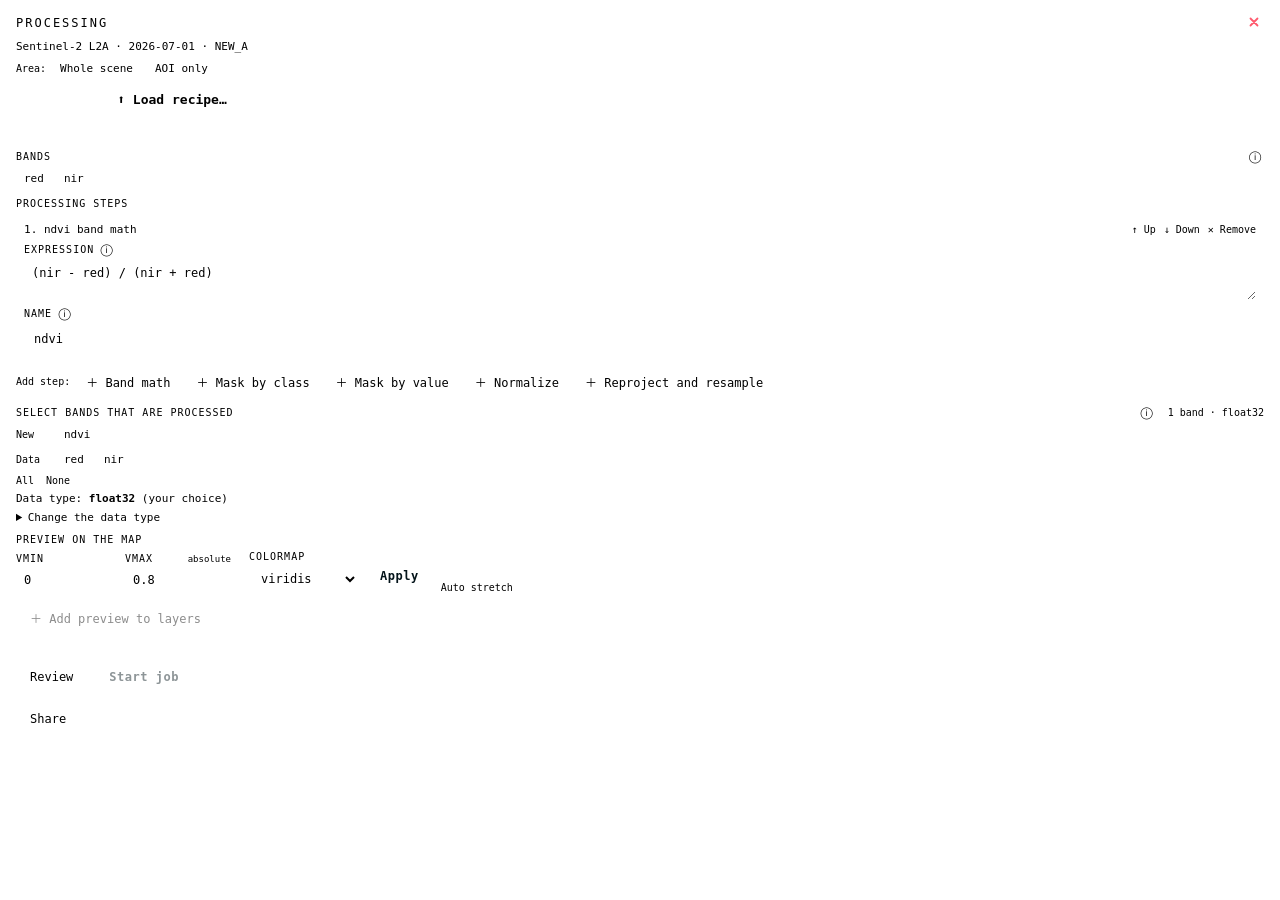
Test: Share › keeps the link and its key when the delete fails
Click the button "Share" at coordinates (48, 719), box [16,702,80,736]
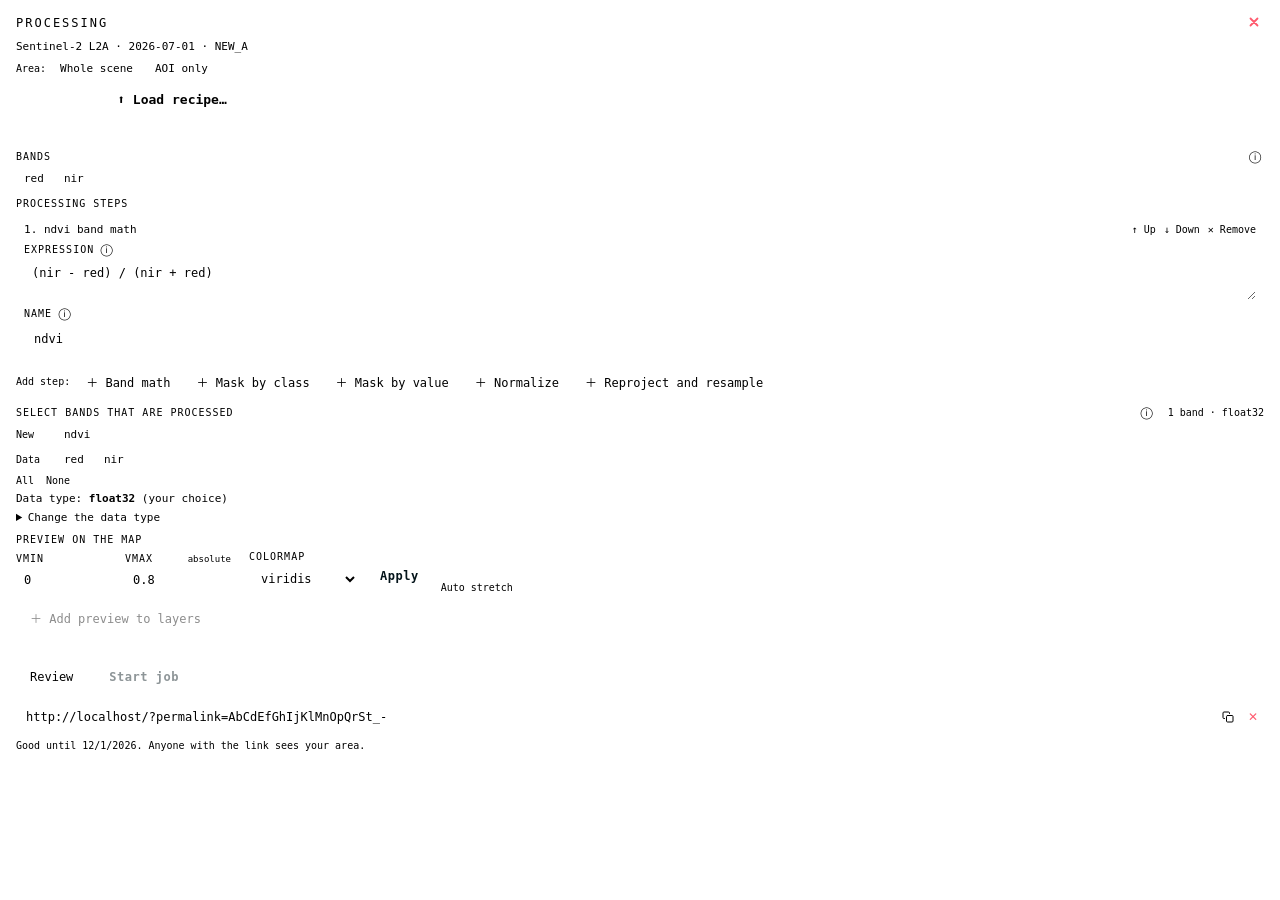
Click the button "✕" at coordinates (1253, 717), box [1242,707,1264,727]
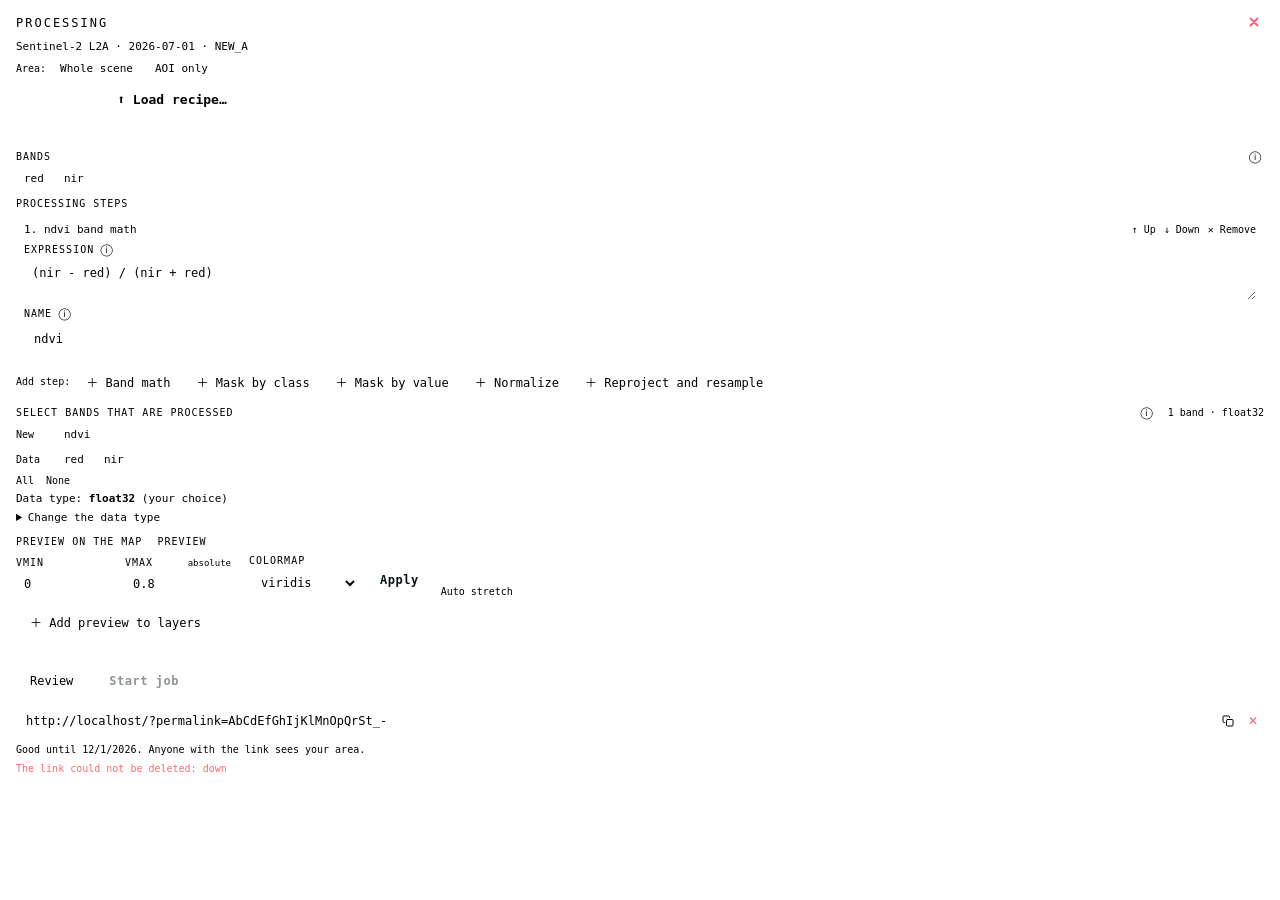
Check: the text "could not be deleted" is shown, box [16,763,227,774]
